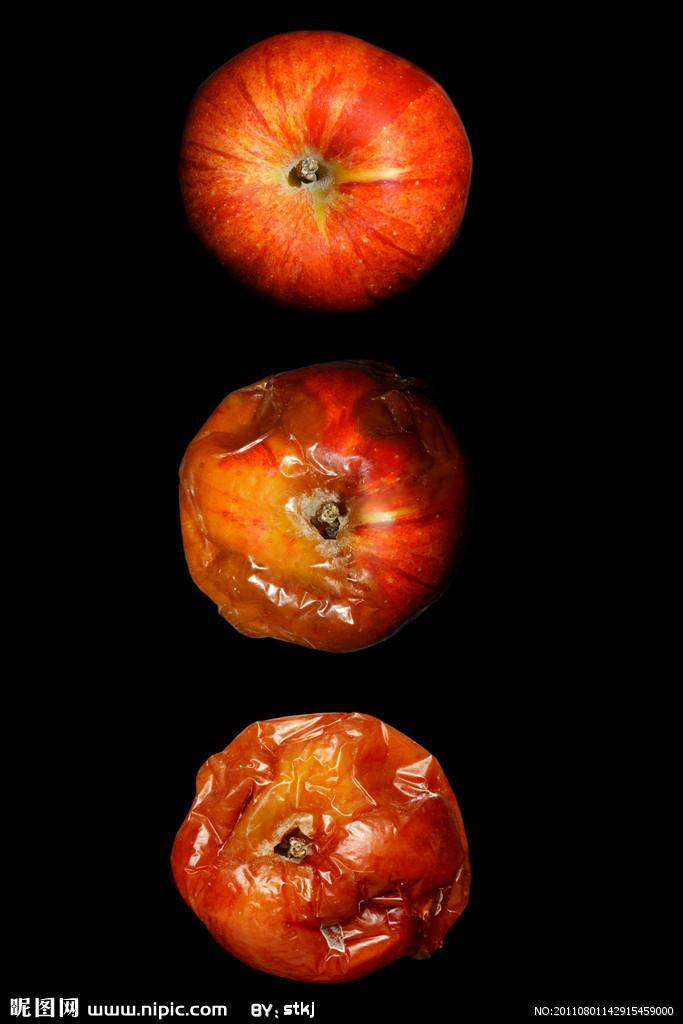apple: (177, 352, 467, 647), (177, 27, 476, 310), (171, 712, 473, 984)
